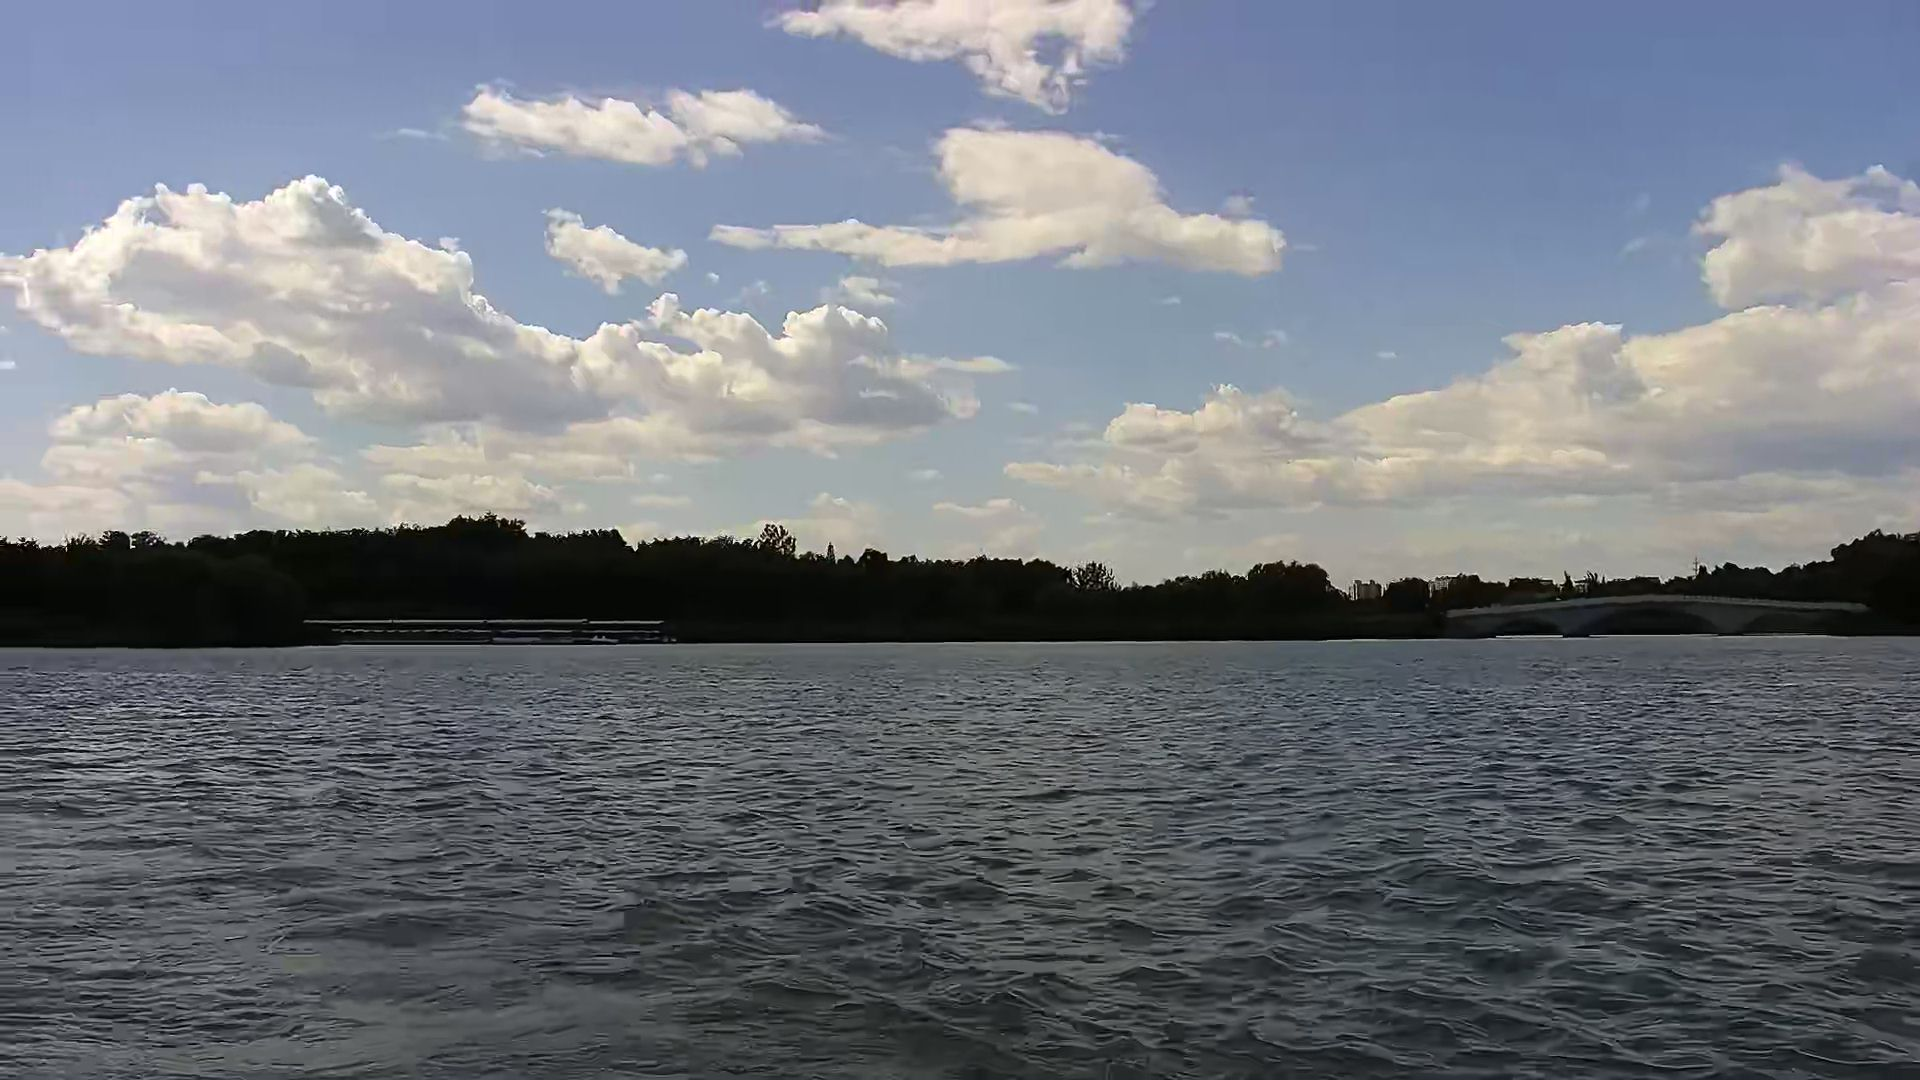bridge: (1447, 591, 1880, 644)
